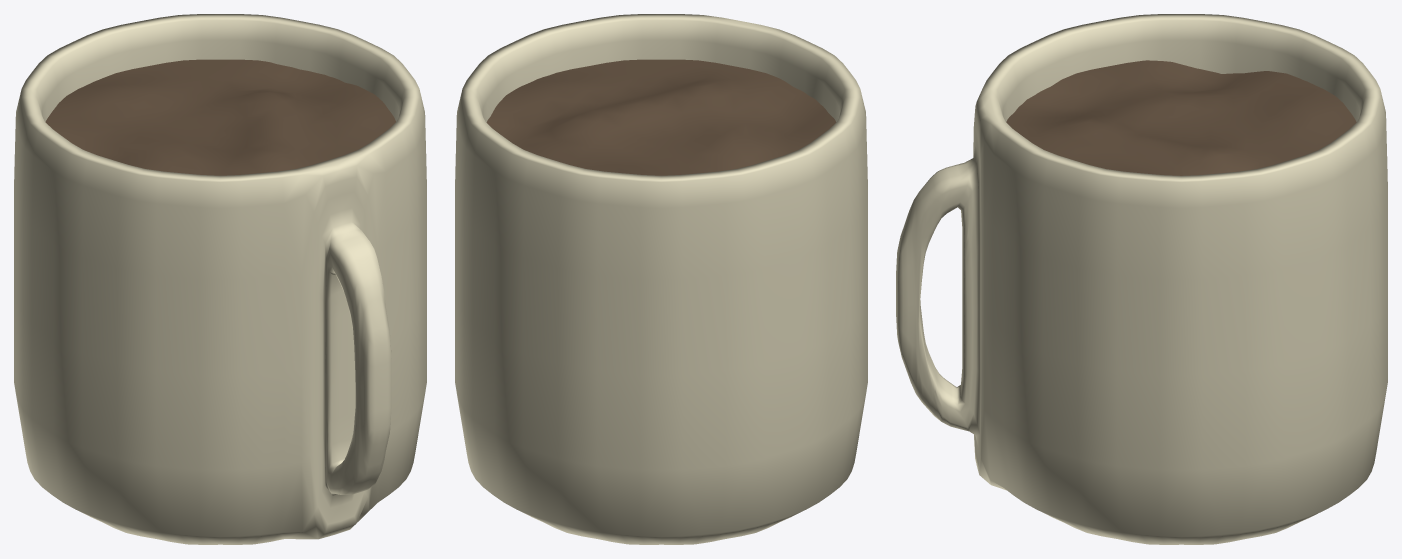
Rendered from taza.fbx.
3 views of the same model, side by side, from view 1: azimuth 30°, elevation 25°; view 2: azimuth 150°, elevation 25°; view 3: azimuth 270°, elevation 25° (orthographic).
Parts seen in each view (by area): view 1: taza, liquido; view 2: taza, liquido; view 3: taza, liquido.
Part boxes in pixels (x1,y1,x2,y2): taza: (14,14,426,544); liquido: (45,59,395,175); taza: (455,14,867,544); liquido: (486,59,836,175); taza: (896,14,1387,544); liquido: (1006,60,1356,175).
Size of the model in its own units: 0.1553 by 0.1579 by 0.185.
